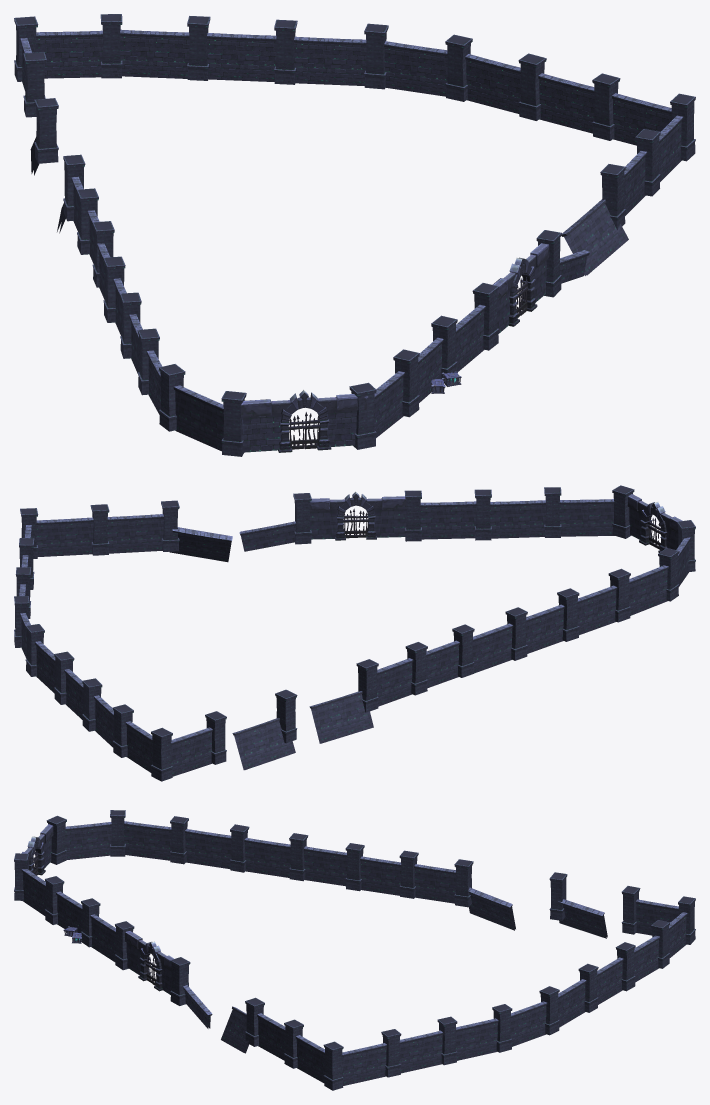
Rendered from Area12_7.fbx.
3 views of the same model, one above another, from view 1: azimuth 30°, elevation 25°; view 2: azimuth 150°, elevation 25°; view 3: azimuth 270°, elevation 25° (orthographic). The views are drawn at different scales.
Parts seen in each view (by area): view 1: Area12_7; view 2: Area12_7; view 3: Area12_7.
Boxes of the visible parts, <box> form: Area12_7: <box>14,14,695,456</box>; Area12_7: <box>14,485,695,781</box>; Area12_7: <box>14,810,695,1090</box>.
Bounding box in the file's own units: 7270 × 864 × 8728.
